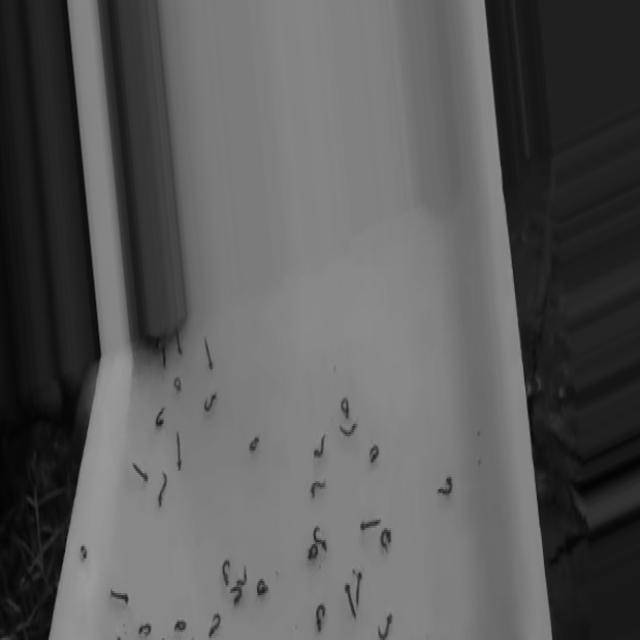larvas: (377, 614, 395, 639), (157, 470, 168, 506), (109, 586, 129, 604), (316, 602, 327, 634), (438, 476, 454, 496), (346, 585, 356, 617), (337, 424, 359, 438), (132, 463, 148, 482), (354, 574, 364, 604), (314, 528, 328, 549), (359, 518, 382, 530), (310, 479, 326, 496), (204, 392, 217, 412), (380, 527, 391, 550), (314, 432, 324, 457), (210, 614, 221, 636), (230, 584, 242, 604), (176, 431, 182, 470), (205, 336, 212, 368), (342, 396, 350, 422), (158, 340, 166, 364), (154, 409, 166, 425), (223, 559, 229, 588), (370, 445, 379, 464), (257, 578, 267, 595), (175, 330, 182, 353), (237, 568, 247, 584), (249, 436, 259, 451), (309, 543, 317, 560), (139, 625, 152, 635), (176, 619, 186, 632), (80, 545, 88, 561), (172, 379, 182, 391)
